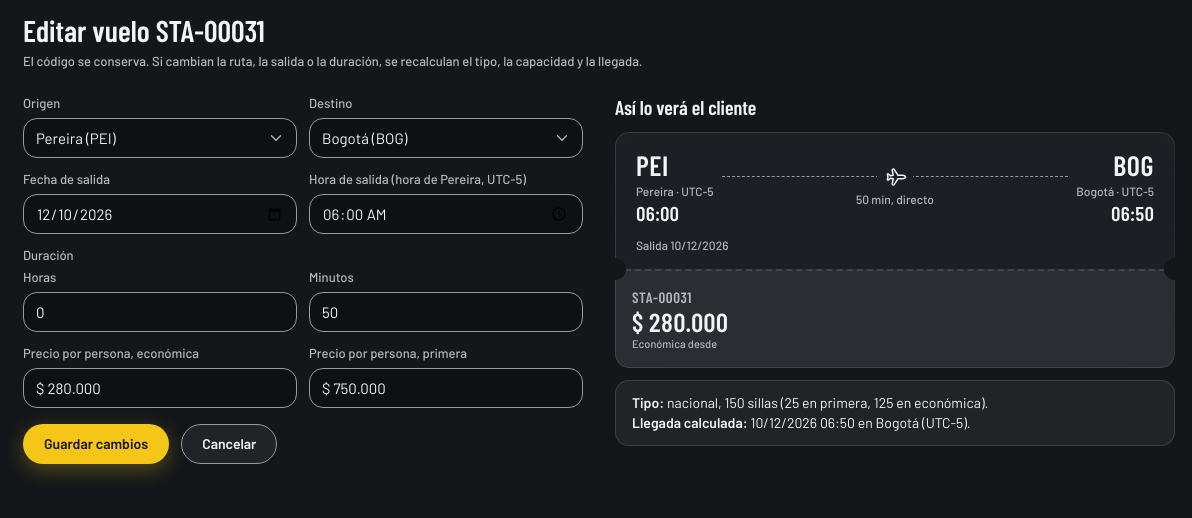
Scenario: S09 · Editar vuelo (HU-15) › vuelve a aplicar las validaciones de HU-13 (destino igual al origen)
Expected: the heading "Editar vuelo STA-00031" is shown, left=23, top=12, right=265, bottom=48
Select "Pereira (PEI)" in the dropdown labelled "Destino" at (446, 138), box left=309, top=118, right=583, bottom=158
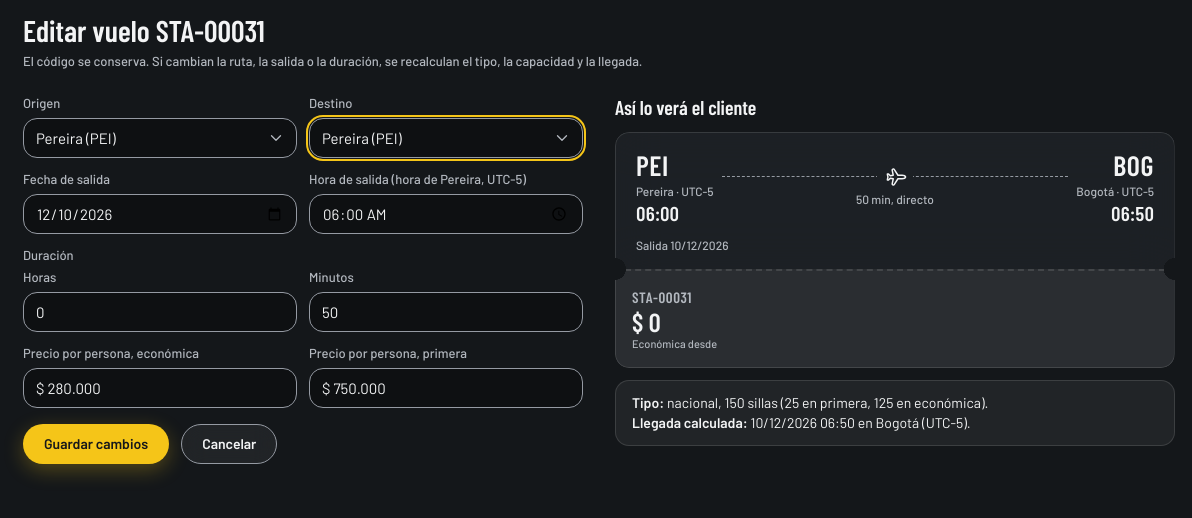
Click the button "Guardar cambios".
click(96, 444)  # box left=23, top=424, right=169, bottom=464
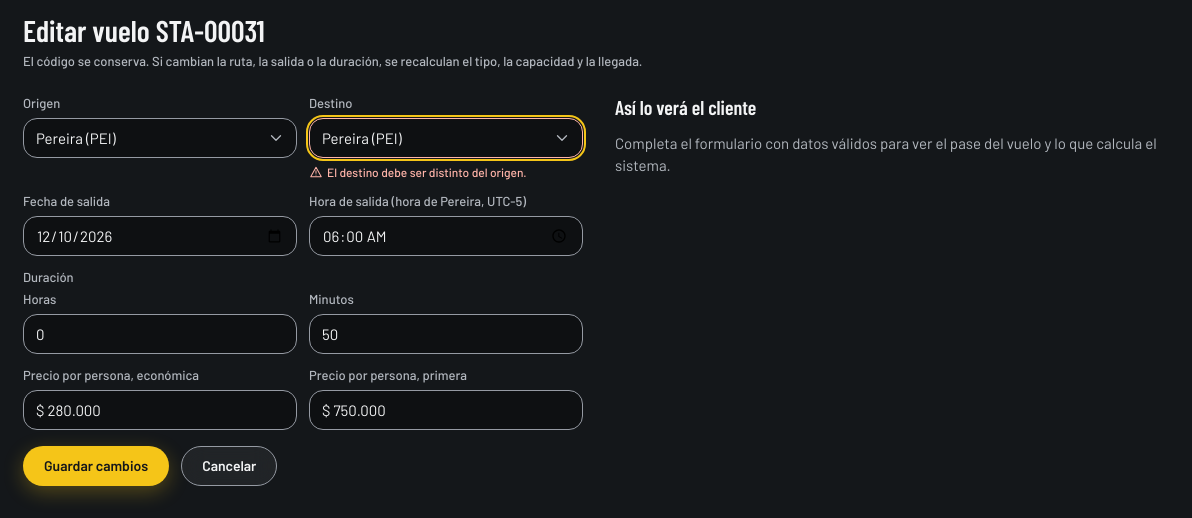
Now the text "El destino debe ser distinto del origen." is shown, box left=309, top=165, right=527, bottom=179
